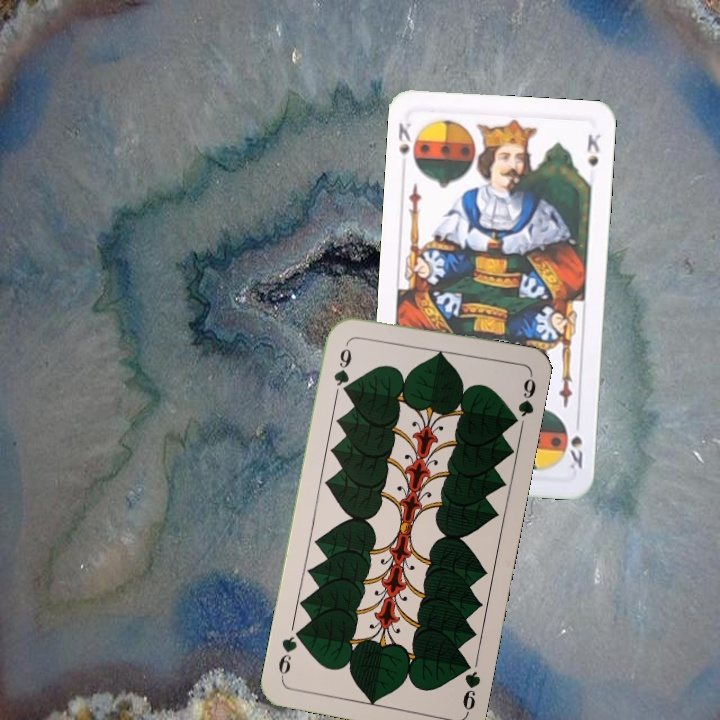G9: (458, 655, 483, 716), (330, 344, 354, 397)
SK: (565, 432, 585, 472), (394, 118, 414, 157)
